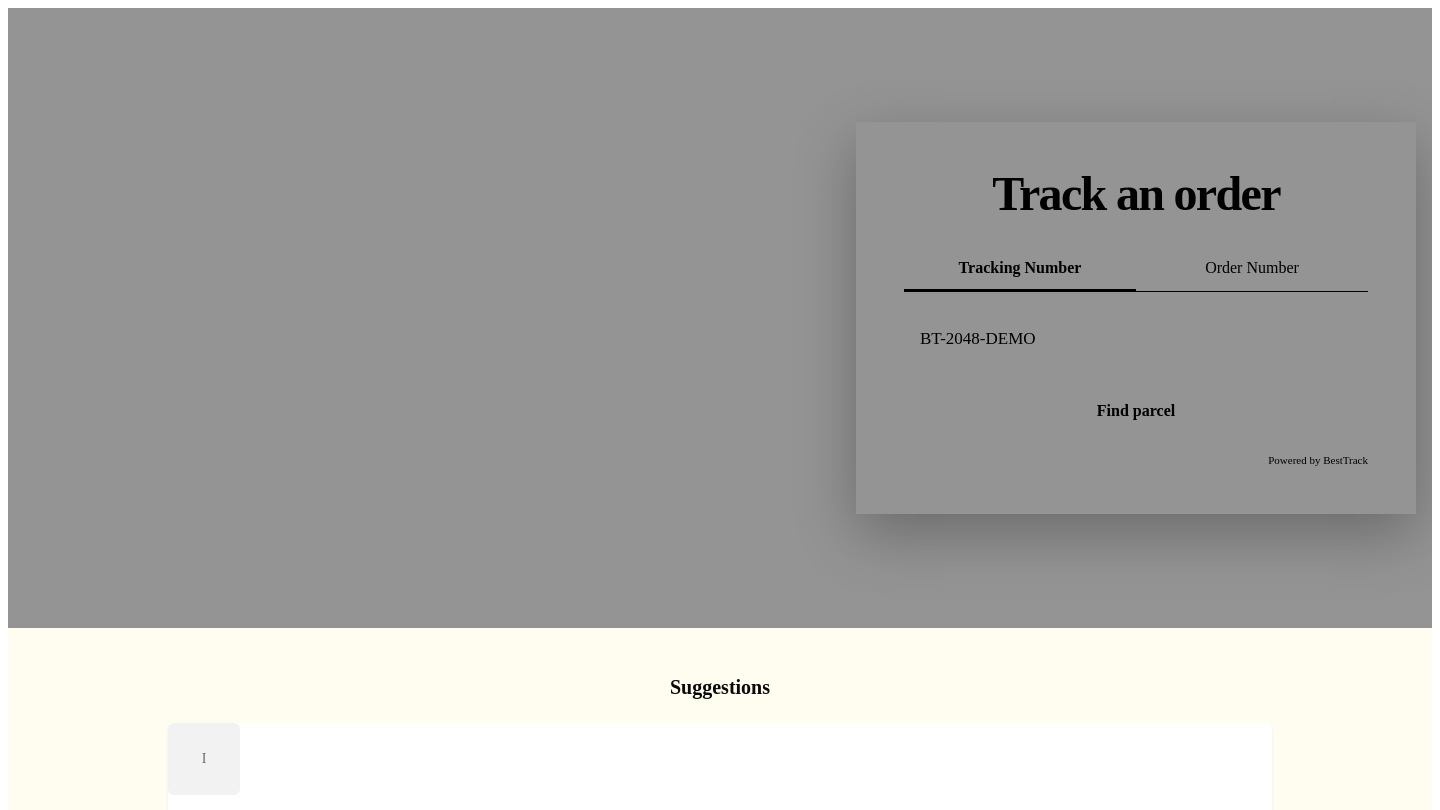
Scenario: shared TrackingRuntimeProvider › drives query, progress, delivery and recommendations from different templates with one provider
Replace the text in the field named "Sales tracking number" with "MIX" at (1136, 339), box left=904, top=310, right=1368, bottom=368
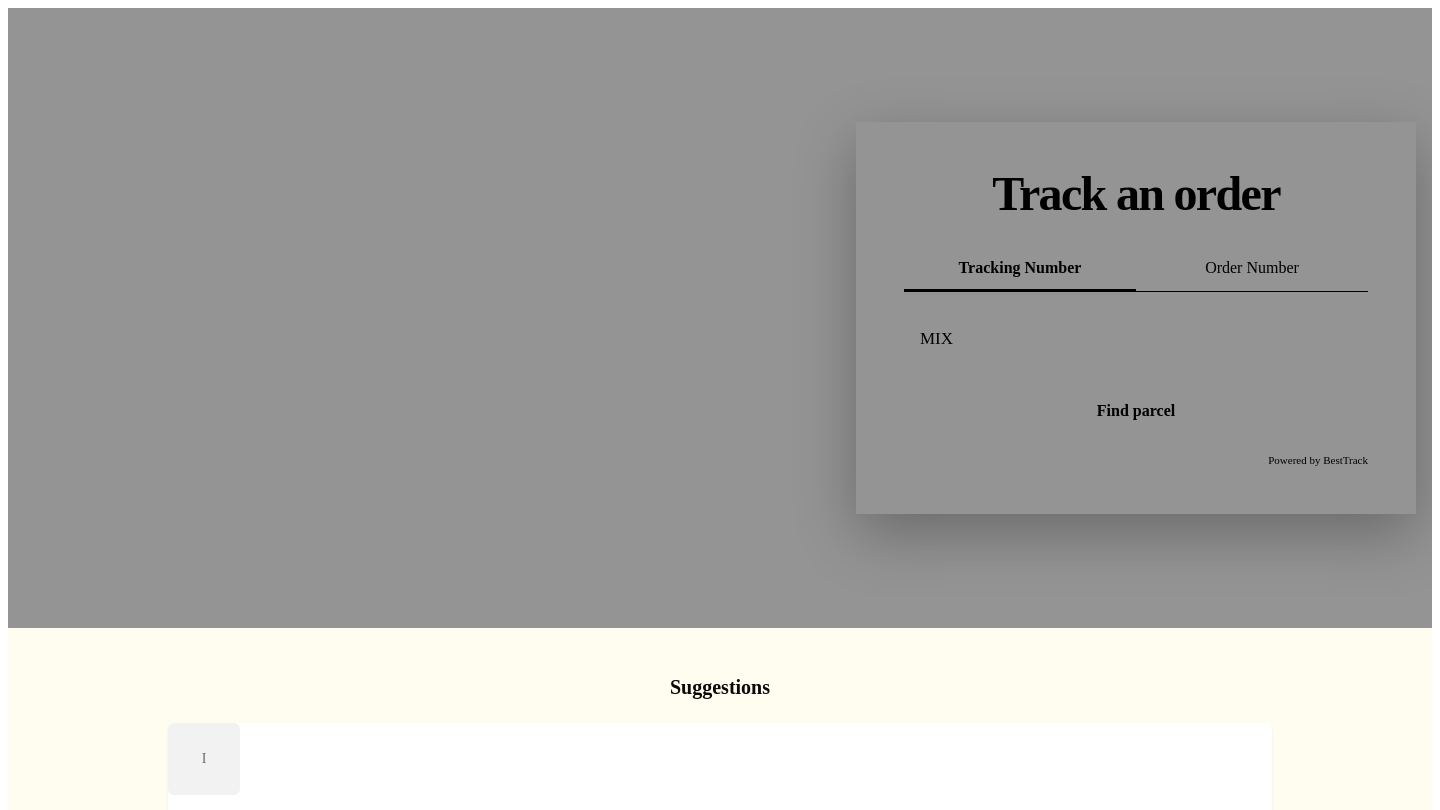
Click the button "Find parcel" at (1136, 411), box left=904, top=382, right=1368, bottom=440
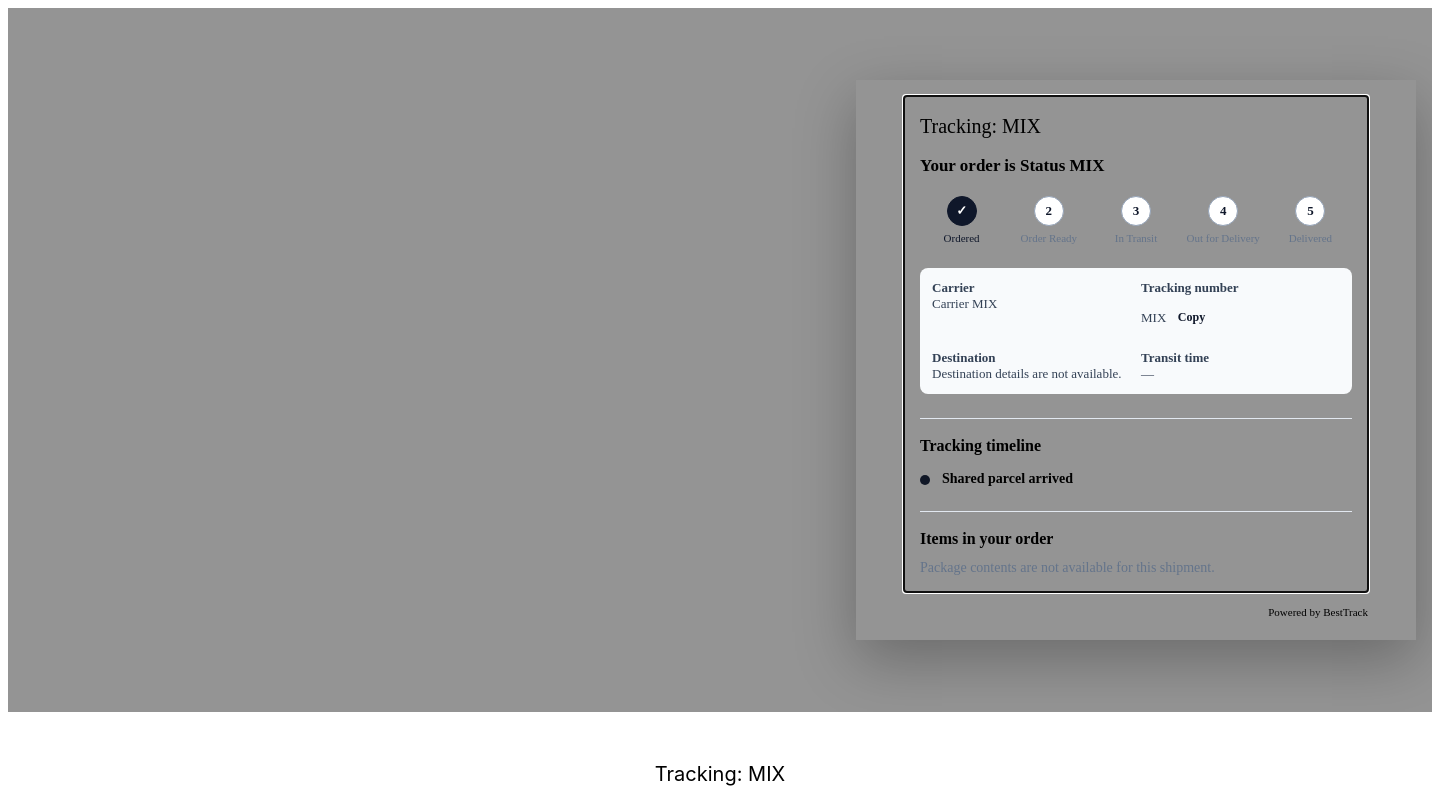
Expected: the text "Your order is Status MIX" is shown 2 times
Expected: the text "Shared parcel arrived" is shown 2 times
